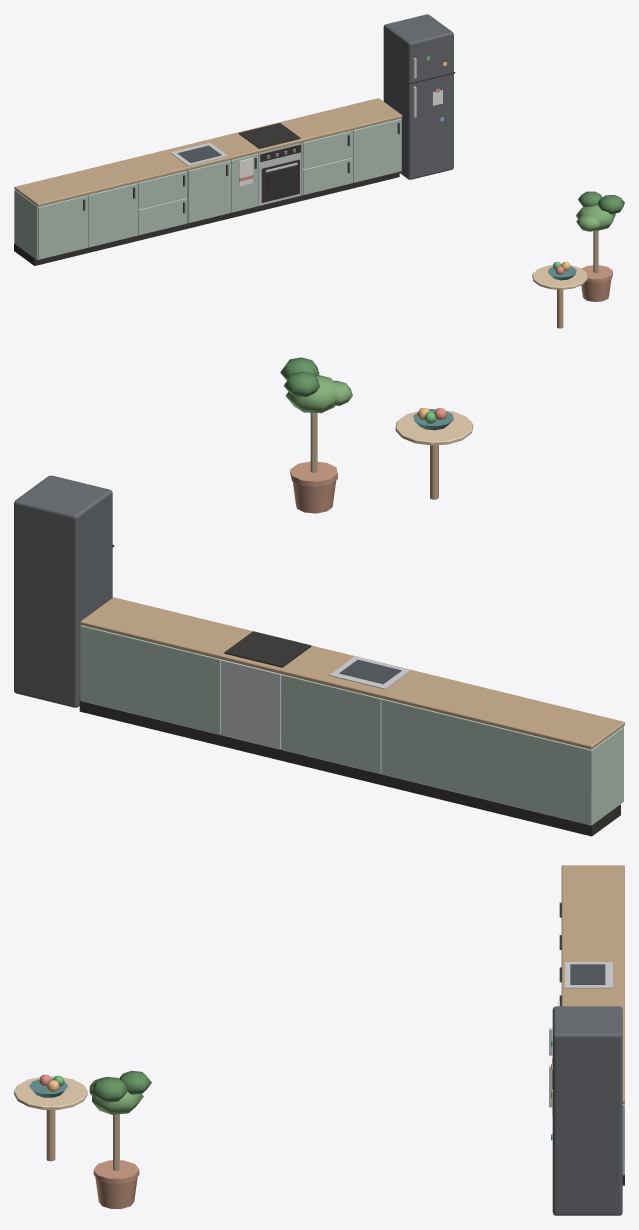
File: einrichtung_kueche_buehne.glb
The picture shows the model from 3 angles, top to bottom: view 1: azimuth 30°, elevation 25°; view 2: azimuth 150°, elevation 25°; view 3: azimuth 270°, elevation 25°; orthographic projection. The views are drawn at different scales.
Visible parts, largest first — view 1: einrichtung_kueche_buehne; view 2: einrichtung_kueche_buehne; view 3: einrichtung_kueche_buehne.
Part boxes in pixels (x1,y1,x2,y2): einrichtung_kueche_buehne: (14, 14, 624, 328); einrichtung_kueche_buehne: (14, 357, 624, 836); einrichtung_kueche_buehne: (14, 865, 624, 1215).
Bounding box in the file's own units: 5.8 × 1.84 × 5.59.
